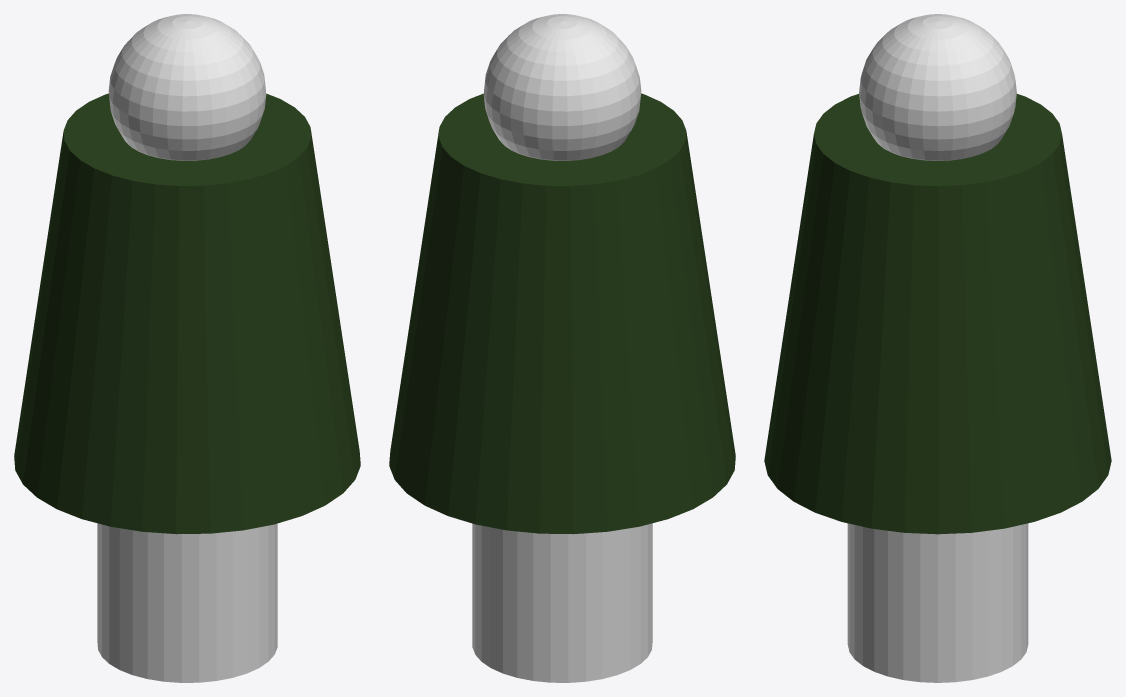
The model's file is player_figure.glb.
3 views of the same model, side by side, from view 1: azimuth 30°, elevation 25°; view 2: azimuth 150°, elevation 25°; view 3: azimuth 270°, elevation 25° (orthographic).
Visible parts, largest first — view 1: Zylinder, Kugel; view 2: Zylinder, Kugel; view 3: Zylinder, Kugel.
Part boxes in pixels (x1=…): Zylinder: x1=14, y1=93, x2=360, y2=534; Kugel: x1=97, y1=14, x2=277, y2=682; Zylinder: x1=389, y1=93, x2=735, y2=534; Kugel: x1=472, y1=14, x2=652, y2=682; Zylinder: x1=764, y1=94, x2=1111, y2=534; Kugel: x1=847, y1=14, x2=1028, y2=682.
Bounding box in the file's own units: 1.54 × 3.05 × 1.54.
